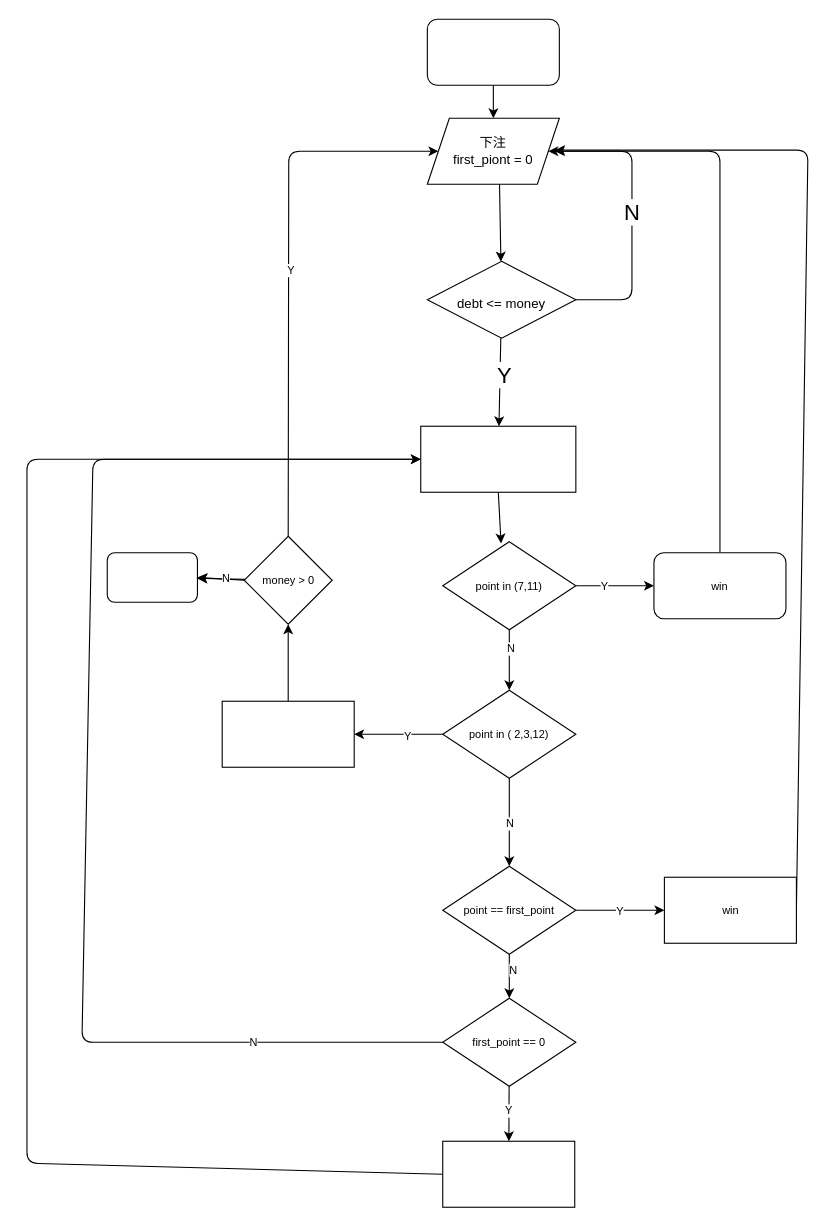
Image size: 836x1227. Some labels were removed from this diagram. Each missing label, with the centre of its shape:
"first_point = point" belongs at (508,1173).
"lose" belongs at (287,733).
"point = random.randint(1,12)" belongs at (498,458).
"start money = 1000" belongs at (492,51).
"输完了" belongs at (151,577).
